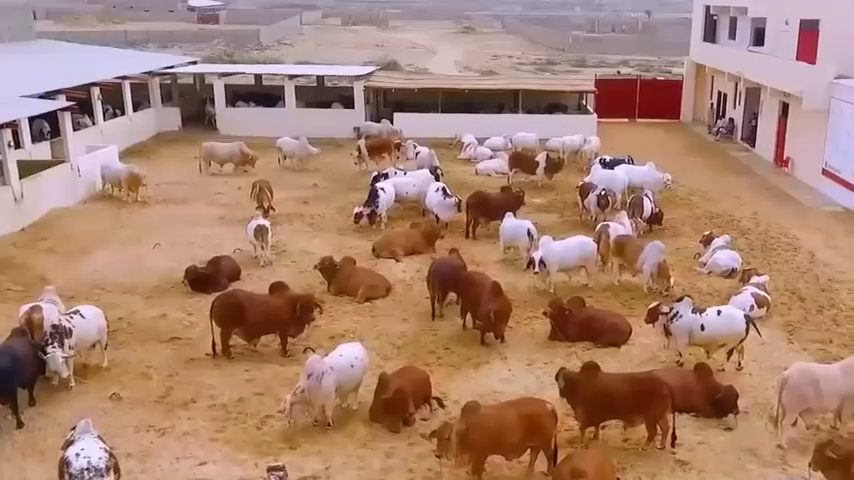bo: (549, 356, 682, 450), (425, 394, 561, 473), (639, 349, 753, 433), (208, 278, 325, 358), (637, 292, 757, 367), (272, 338, 368, 427), (777, 349, 854, 447), (41, 301, 116, 393), (540, 286, 634, 352), (526, 227, 610, 299), (606, 228, 679, 305), (2, 324, 48, 443), (452, 267, 519, 345), (310, 249, 395, 308), (375, 356, 435, 438), (464, 185, 532, 249), (53, 416, 121, 480), (368, 211, 439, 267), (339, 172, 402, 234), (95, 153, 154, 215), (495, 206, 549, 271), (689, 223, 744, 286), (178, 246, 240, 300), (422, 231, 460, 317), (546, 438, 621, 480), (728, 253, 772, 324), (20, 280, 68, 345), (502, 141, 568, 188), (236, 211, 286, 269), (268, 124, 324, 175), (397, 156, 445, 214), (196, 139, 267, 178), (421, 177, 463, 234), (587, 204, 633, 255), (239, 169, 286, 216), (467, 135, 513, 183), (802, 434, 851, 477), (346, 134, 401, 171), (624, 188, 669, 232), (619, 160, 673, 193), (405, 137, 446, 179), (576, 181, 614, 223), (577, 162, 628, 193), (552, 124, 585, 163), (59, 105, 101, 135), (355, 120, 408, 141), (495, 127, 540, 151), (358, 166, 412, 184), (460, 136, 493, 163), (577, 127, 599, 165), (599, 150, 637, 168), (540, 129, 566, 154), (454, 125, 476, 150), (31, 113, 50, 139)
